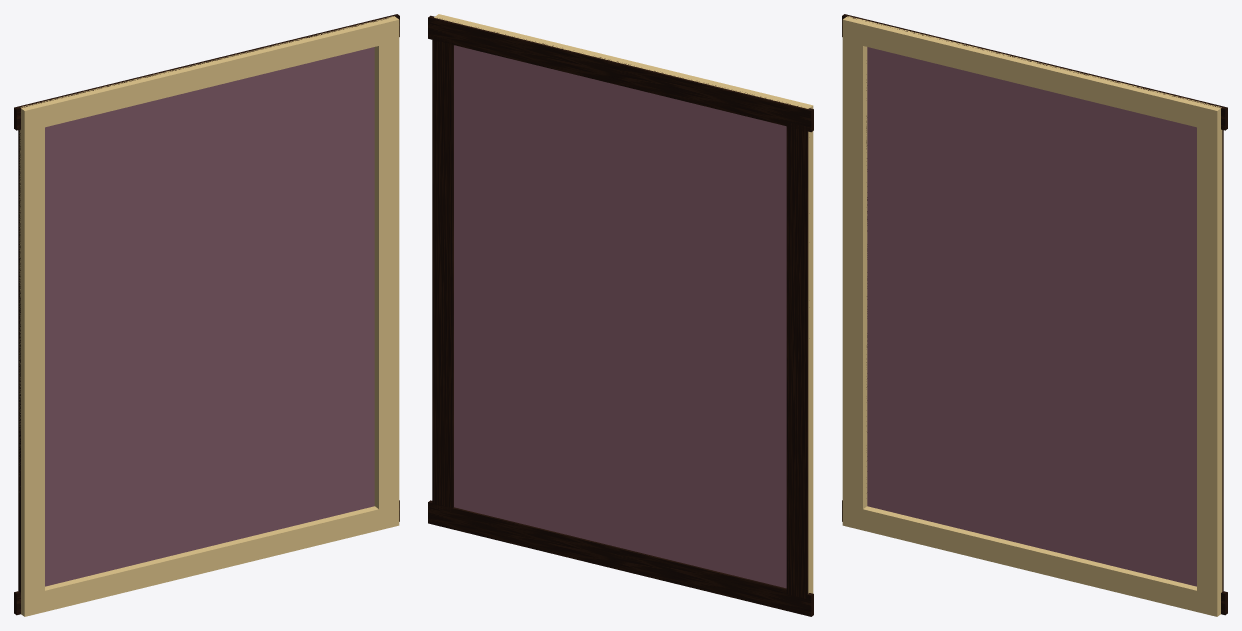
The model's file is mm_frame_rules.glb.
The picture shows the model from 3 angles, left to right: view 1: azimuth 30°, elevation 25°; view 2: azimuth 150°, elevation 25°; view 3: azimuth 330°, elevation 25°; orthographic projection.
Visible parts, largest first — view 1: plate, gold, wood_dark; view 2: plate, wood_dark, gold; view 3: plate, gold, wood_dark.
Part boxes in pixels (x1,y1,x2,y2): plate: (45, 47, 374, 586); gold: (19, 16, 399, 616); wood_dark: (14, 14, 399, 615); plate: (454, 45, 786, 588); wood_dark: (428, 15, 813, 616); gold: (434, 14, 813, 593); plate: (867, 47, 1196, 586); gold: (842, 16, 1222, 616); wood_dark: (842, 14, 1227, 615).
Size of the model in its own units: 5.28 by 6.66 by 0.15.
3 materials, 1 textured.
